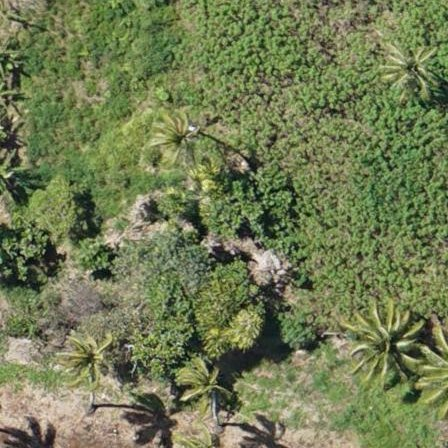palm_tree: (350, 303, 420, 378), (377, 33, 436, 96), (58, 325, 116, 386), (178, 357, 235, 419), (150, 112, 203, 169)
